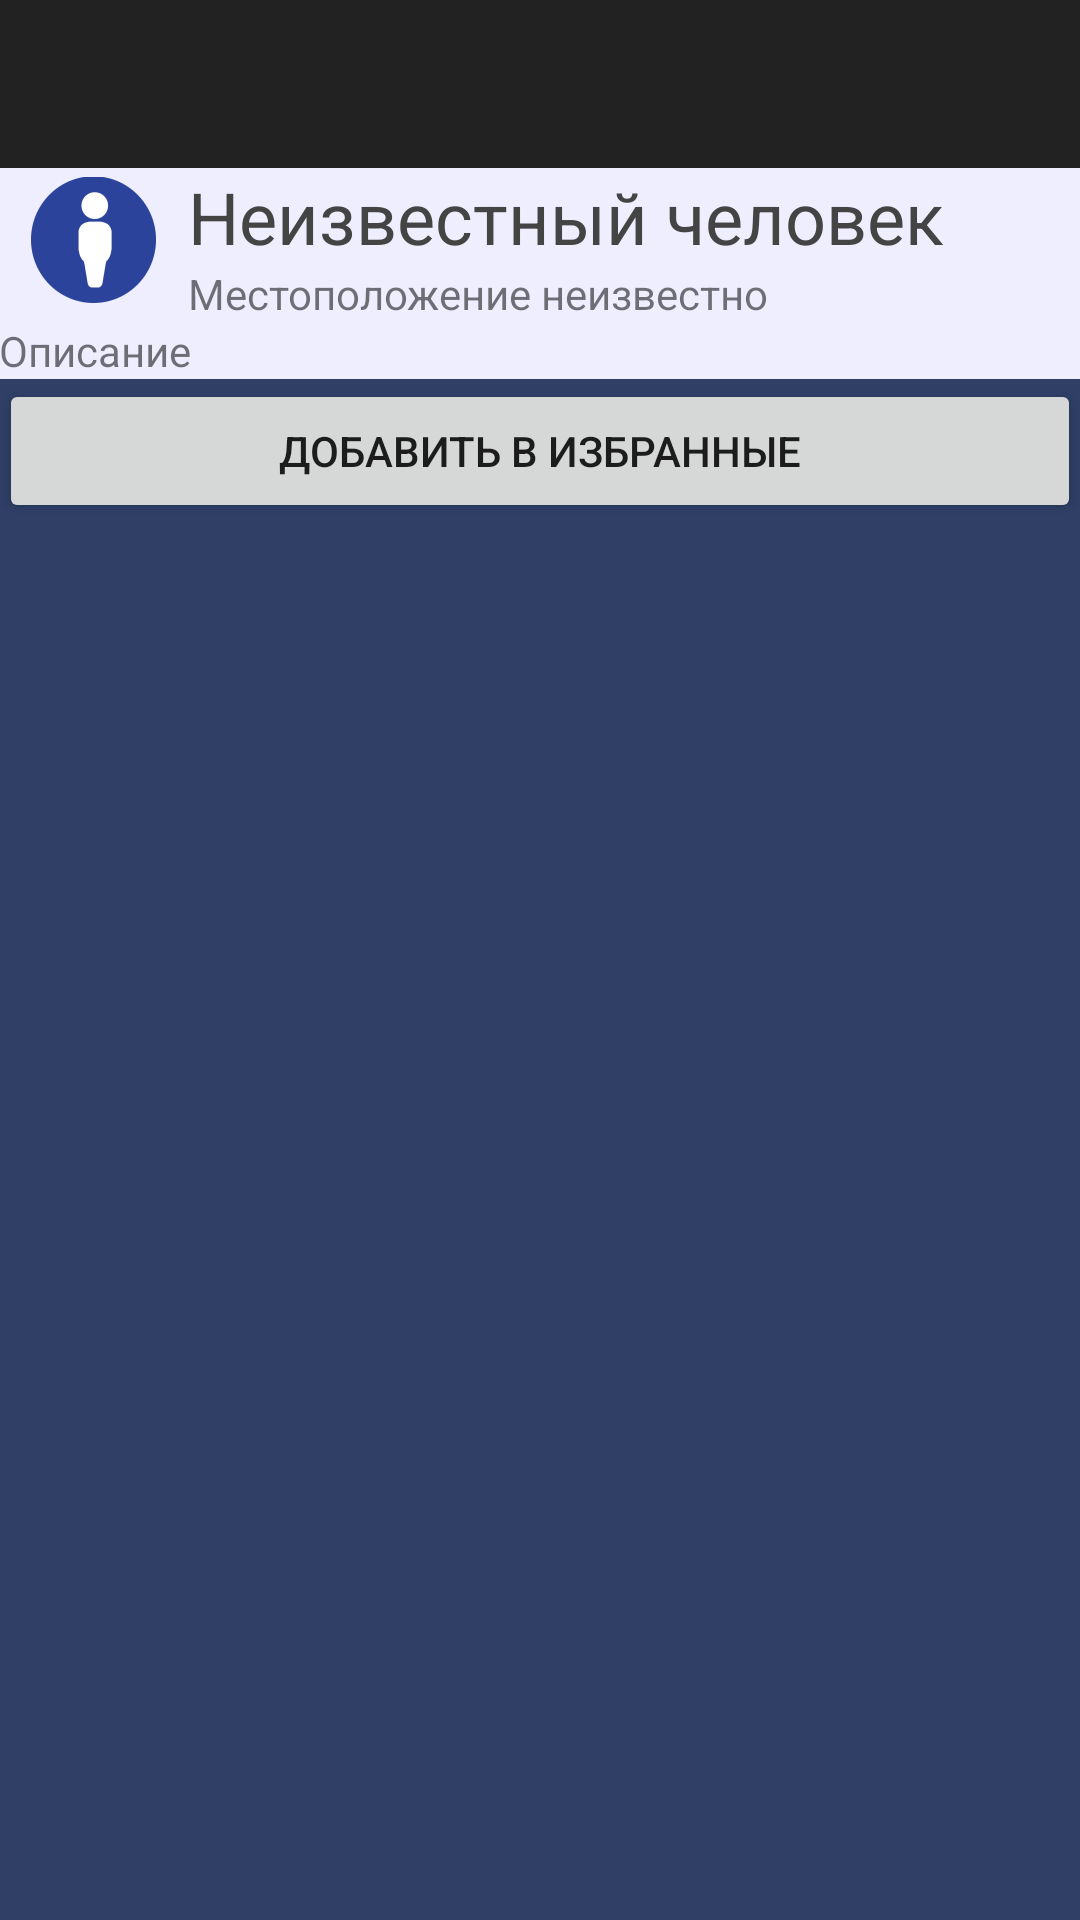

Screen size 1080x1920. Icon name, then its box in pixels as [x1,y1,x2,y2]:
people: [31,177,156,303]
